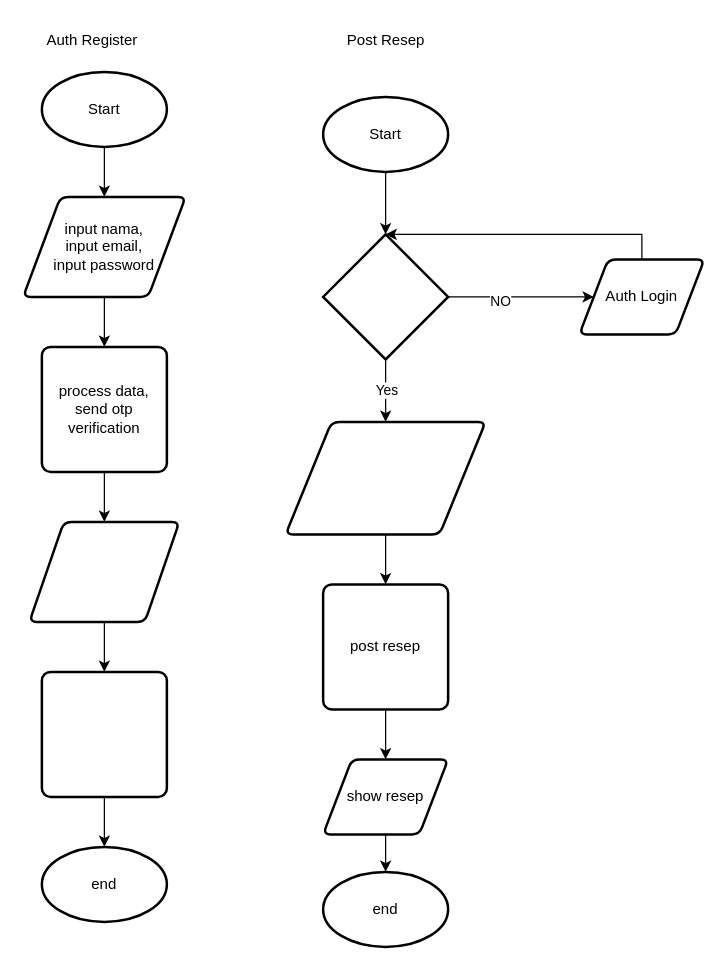
The diagram is 726 pixels wide and 969 high, and some of its shapes have lost their labels. Here are the shapes that lost their labels. From the top down, the centre of each, then its label:
At pixel 385 296: "is login ?".
At pixel 385 477: "input namaresep, foto, komposisi".
At pixel 104 571: "input otp verication".
At pixel 104 734: "account activated".
